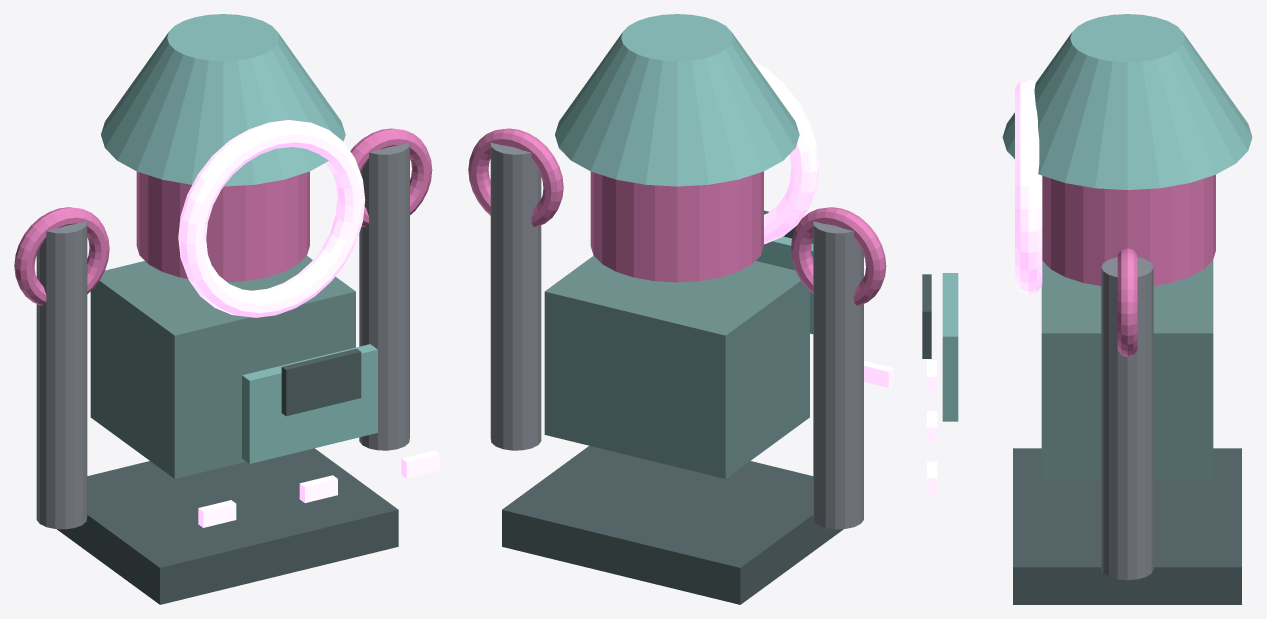
Rendered from asset.glb.
3 renders of one model, left to right at view 1: azimuth 30°, elevation 25°; view 2: azimuth 150°, elevation 25°; view 3: azimuth 270°, elevation 25°, orthographic. The views are drawn at different scales.
Visible parts, largest first — view 1: Housing, Foot, TopCap, SidePost_-1, CoreHalo, Core, SidePost_1, FrontInset, ControlFace, SideRing_-1, SideRing_1, FunctionalTrim_1 (+2 smaller); view 2: Housing, Foot, TopCap, Core, SidePost_1, SidePost_-1, CoreHalo, SideRing_-1, SideRing_1, FrontInset, FunctionalTrim_0; view 3: TopCap, Foot, Housing, SidePost_1, Core, CoreHalo, FrontInset, SideRing_1, ControlFace.
Part boxes in pixels (x1,y1,x2,y2): Housing: (90,256,355,478); Foot: (57,448,398,604); TopCap: (101,14,345,186); SidePost_-1: (36,216,87,529); CoreHalo: (178,120,365,317); Core: (136,171,309,282); SidePost_1: (359,137,409,450); FrontInset: (242,344,377,463); ControlFace: (281,348,361,416); SideRing_-1: (14,207,109,305); SideRing_1: (350,128,432,226); FunctionalTrim_1: (299,475,337,502); Housing: (544,255,809,478); Foot: (502,446,843,604); TopCap: (555,14,799,186); Core: (590,171,763,282); SidePost_1: (490,137,541,450); SidePost_-1: (813,216,863,529); CoreHalo: (752,60,819,244); SideRing_-1: (791,207,886,305); SideRing_1: (468,128,563,226); FrontInset: (756,236,813,334); FunctionalTrim_0: (864,361,893,387); TopCap: (1002,14,1252,189); Foot: (1013,448,1241,604); Housing: (1041,260,1213,479); SidePost_1: (1101,257,1153,580); Core: (1042,174,1215,285); CoreHalo: (1015,79,1042,294); FrontInset: (942,273,958,421); SideRing_1: (1117,248,1137,356); ControlFace: (922,274,931,358).
Size of the model in its own units: 1.88 by 2.15 by 1.27.
